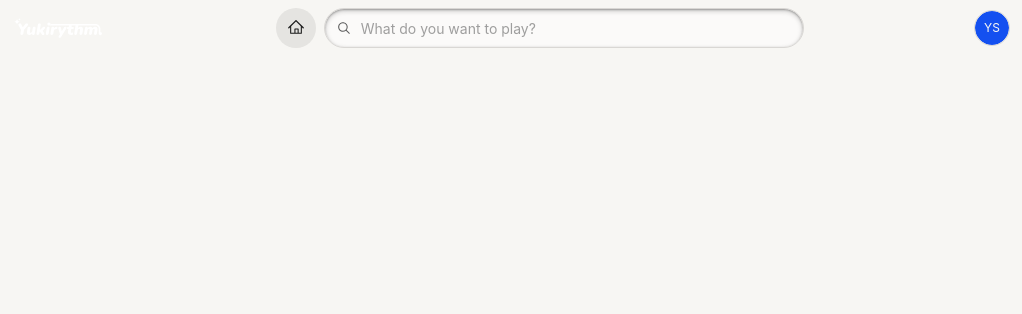
Test case: StudioHeader › opens a profile menu from the avatar
The image size is (1022, 314).
Press the mouse on the button with aria-label "Account menu": (992, 28) [974,10,1010,46]
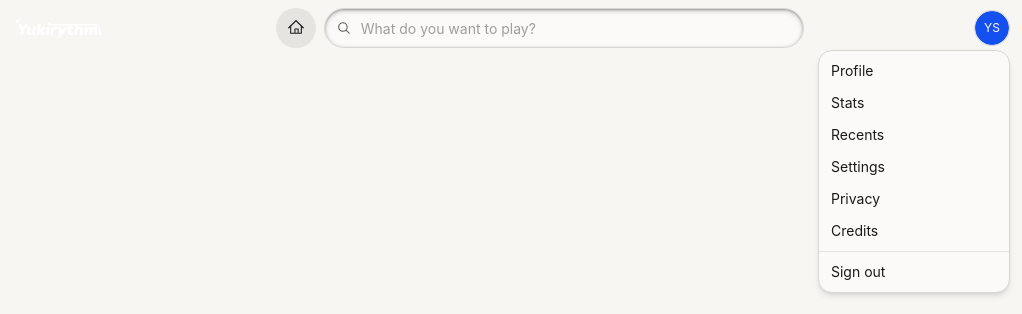
Now the menu item "Settings" is shown, box [831,158,885,175]
Now the menu item "Credits" is shown, box [831,222,878,239]
